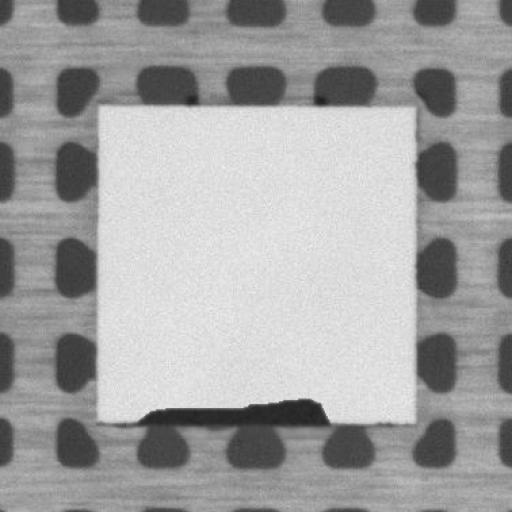DIE_BROKEN: (131, 393, 336, 427)
